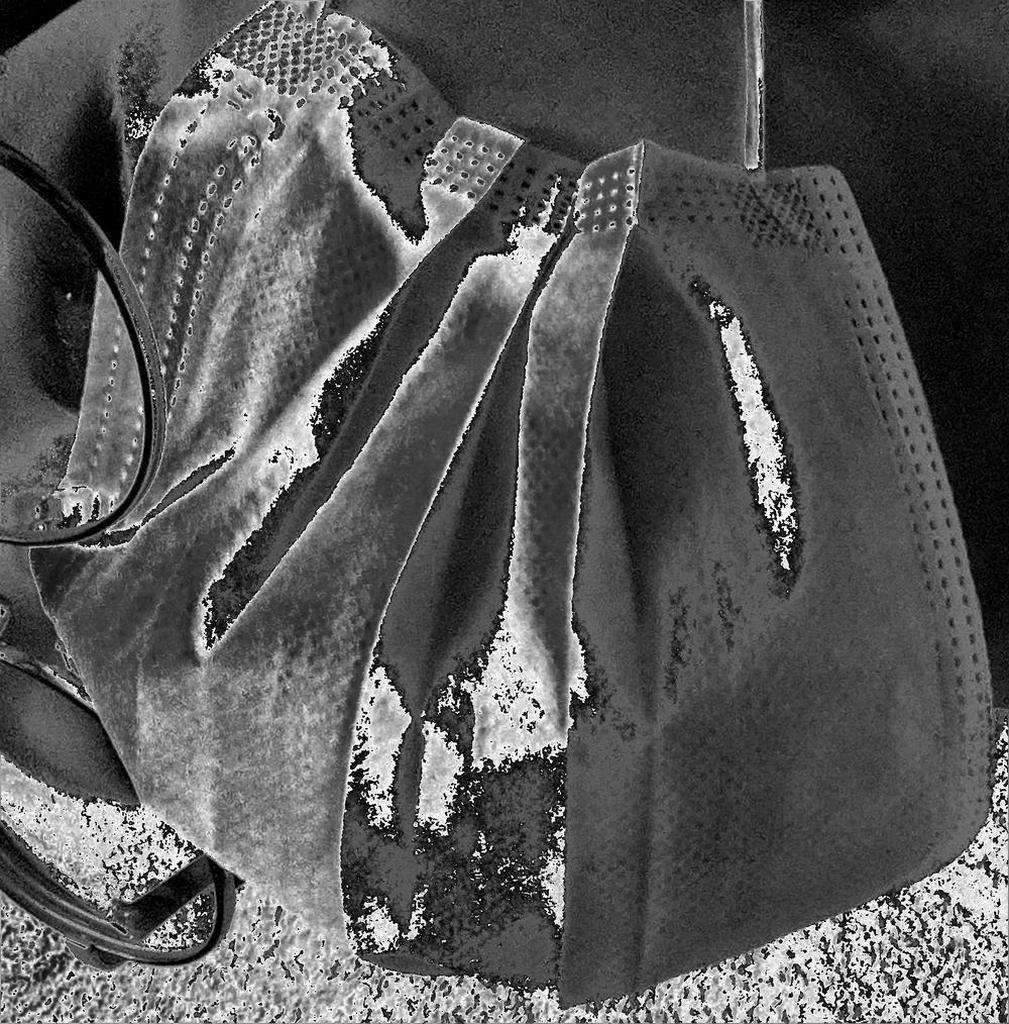Low GSM: (22, 2, 1003, 1013)
